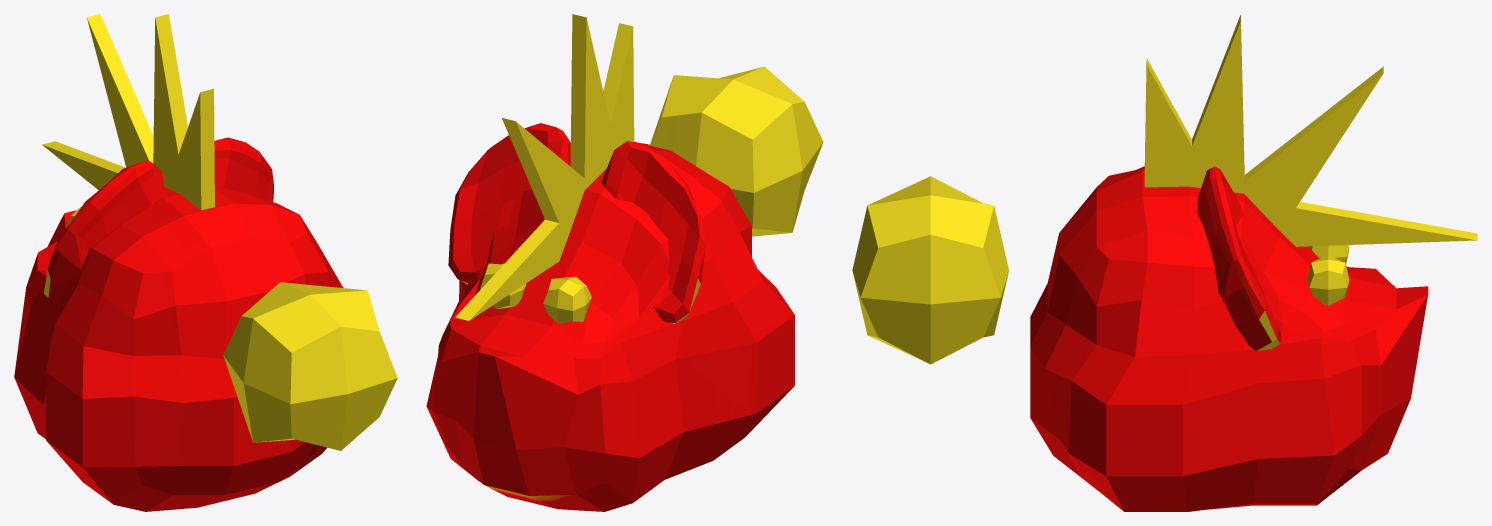
File: enemy2.obj
3 views of the same model, side by side, from view 1: azimuth 30°, elevation 25°; view 2: azimuth 150°, elevation 25°; view 3: azimuth 270°, elevation 25° (orthographic). The views are drawn at different scales.
Parts seen in each view (by area): view 1: Enemy2; view 2: Enemy2; view 3: Enemy2.
Part boxes in pixels (left/top/right/bottom): Enemy2: left=14, top=14, right=397, bottom=511; Enemy2: left=426, top=14, right=823, bottom=511; Enemy2: left=852, top=15, right=1477, bottom=511.
Size of the model in its own units: 1.44 by 2.1 by 2.6.
1 material, 1 textured.
